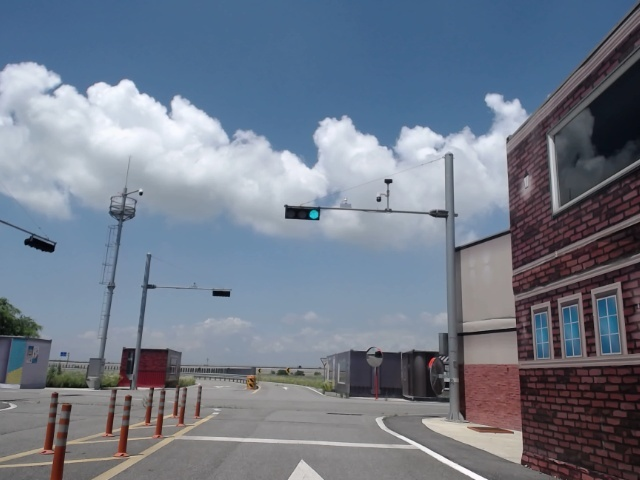green_3: (286, 208, 320, 219)
